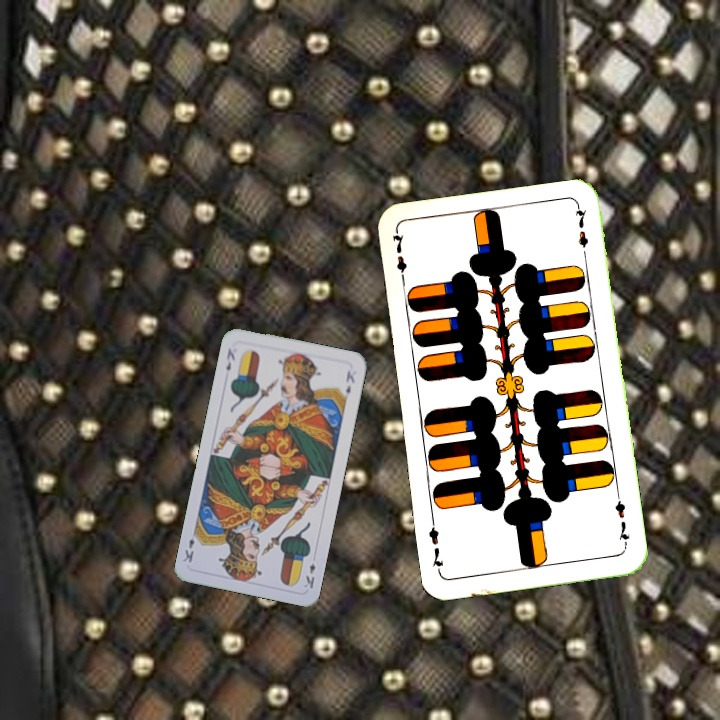E7: (611, 491, 632, 550), (388, 228, 409, 287)
EK: (300, 559, 318, 591), (222, 344, 238, 373)
